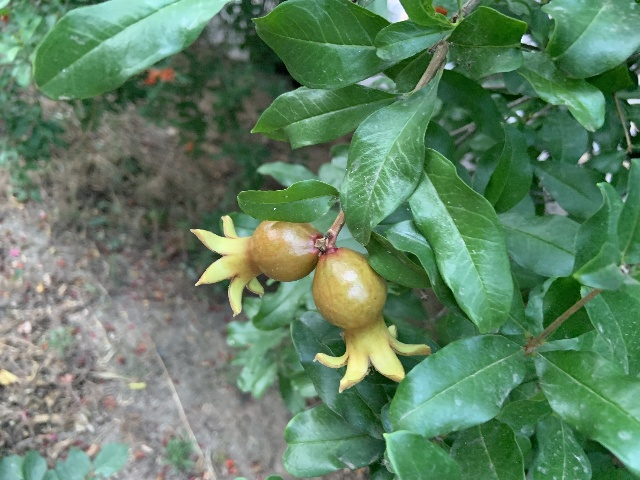early-fruit: (312, 247, 431, 393), (191, 213, 322, 314)
